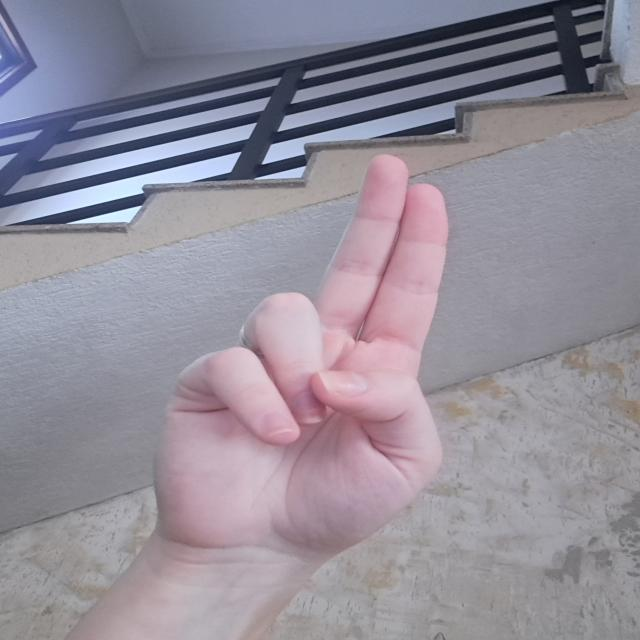U: (154, 145, 450, 567)
